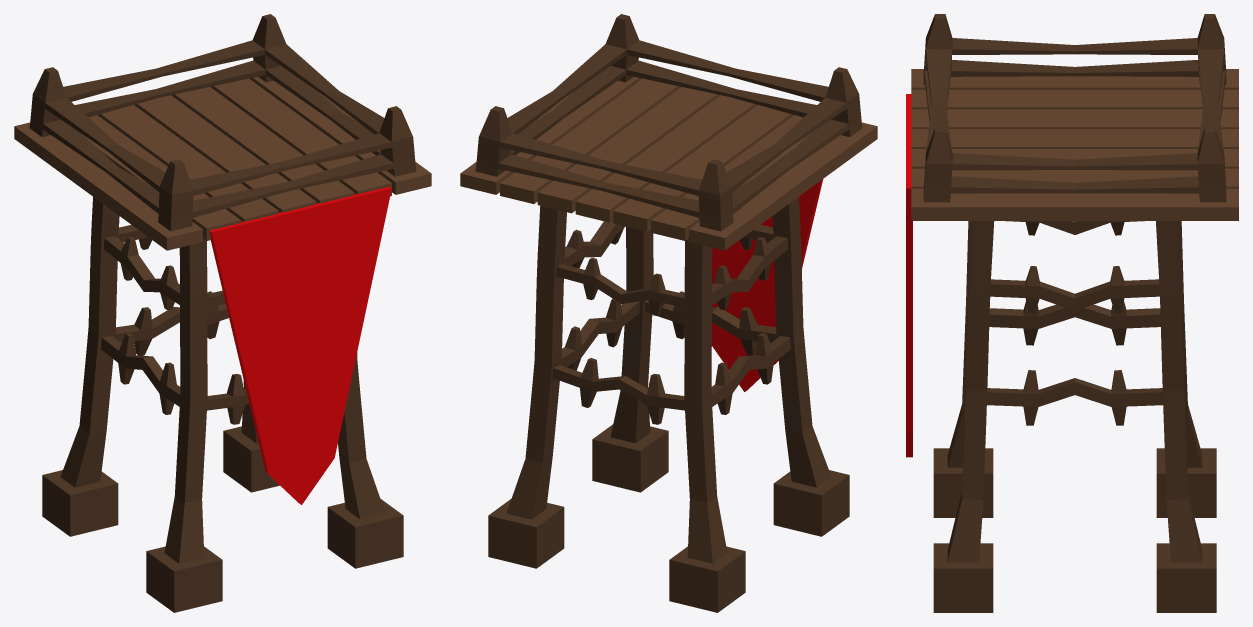
Rendered from ArcherTower1Enemy.fbx.
The picture shows the model from 3 angles, left to right: view 1: azimuth 30°, elevation 25°; view 2: azimuth 150°, elevation 25°; view 3: azimuth 270°, elevation 25°; orthographic projection. The views are drawn at different scales.
Parts seen in each view (by area): view 1: Tower1, Flag; view 2: Tower1, Flag; view 3: Tower1, Flag.
Boxes of the visible parts, x1,y1,x2,y2 form: Tower1: (14, 14, 431, 612); Flag: (209, 186, 391, 504); Tower1: (460, 14, 877, 612); Flag: (712, 179, 823, 391); Tower1: (911, 14, 1238, 612); Flag: (906, 94, 912, 457).
Bounding box in the file's own units: 2.16 × 3.5 × 2.2.
